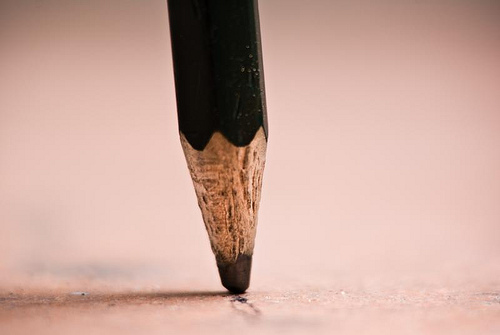pen_tip: (163, 103, 286, 305)
